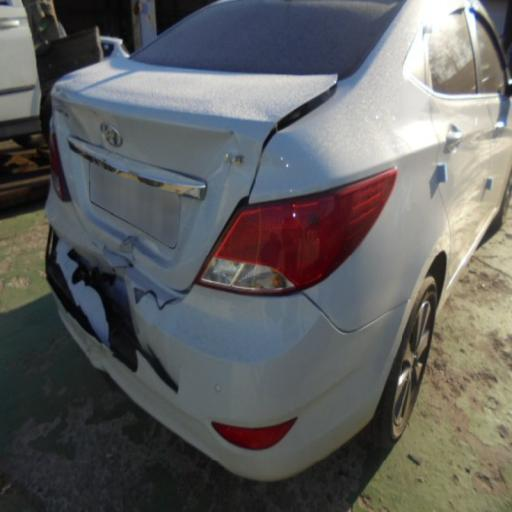broken: (46, 215, 247, 438)
dent: (43, 68, 350, 242)
